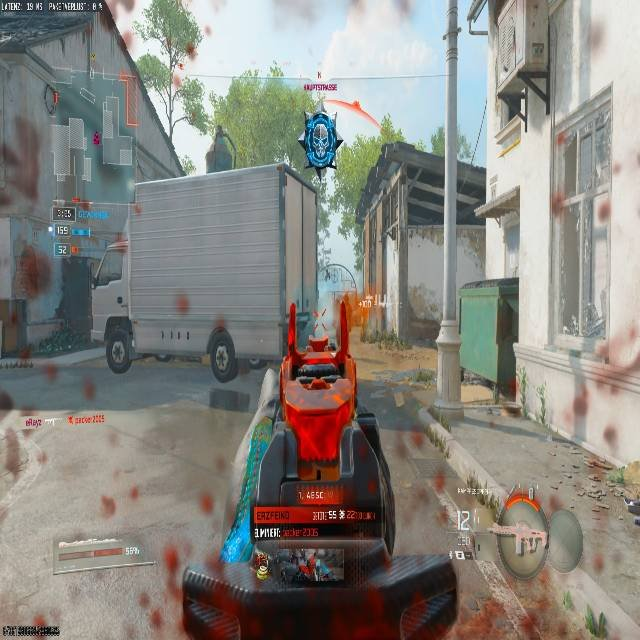player: (297, 110, 342, 197)
